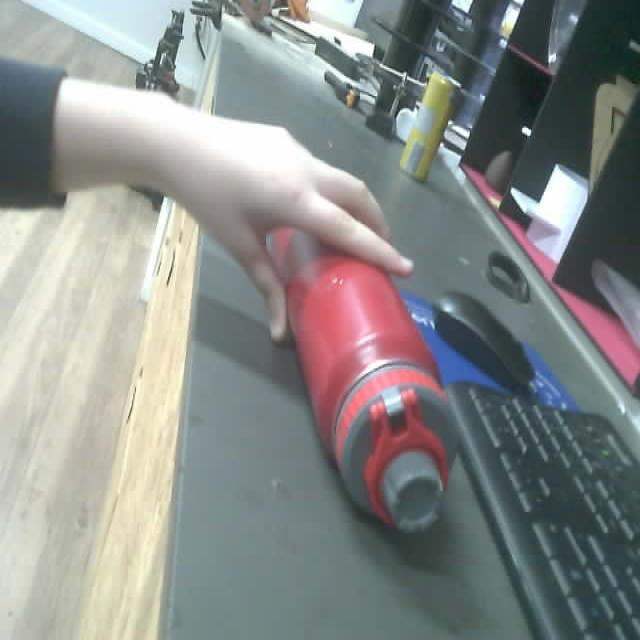water bottle: (273, 236, 450, 537)
